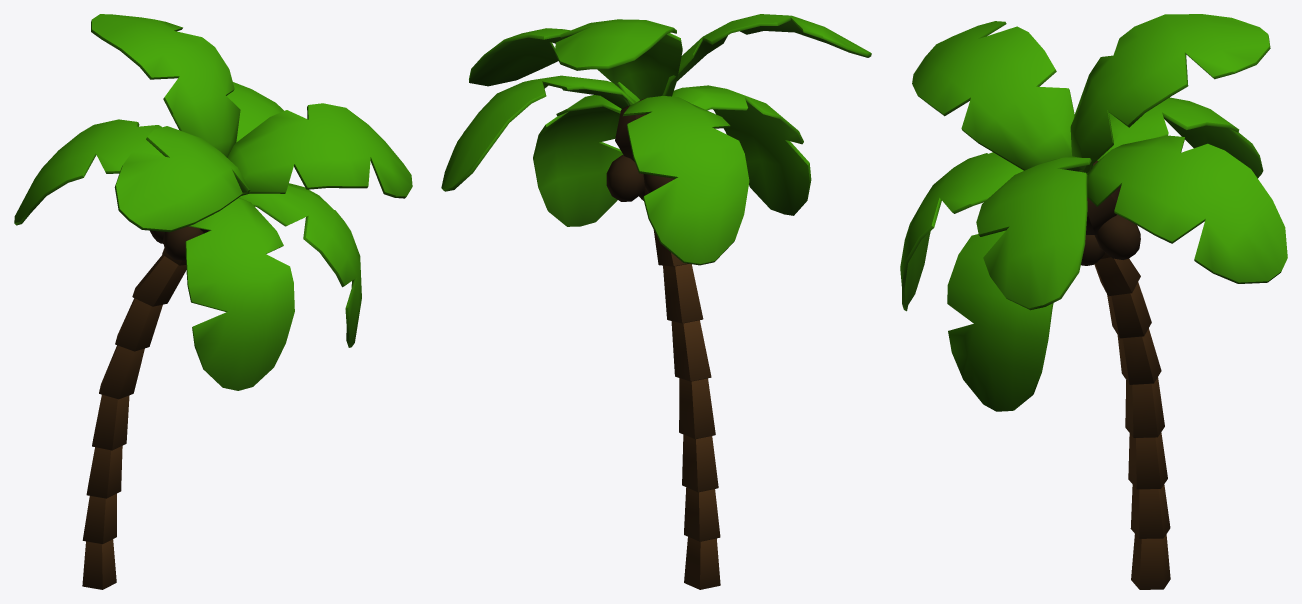
Rendered from Zone_4_Tree_A (21).fbx.
3 views of the same model, side by side, from view 1: azimuth 30°, elevation 25°; view 2: azimuth 150°, elevation 25°; view 3: azimuth 270°, elevation 25° (orthographic). The views are drawn at different scales.
Visible parts, largest first — view 1: Zone_4_Object_2_A_001; view 2: Zone_4_Object_2_A_001; view 3: Zone_4_Object_2_A_001.
Boxes of the visible parts, bbox=[...] form: Zone_4_Object_2_A_001: bbox=[14, 14, 412, 589]; Zone_4_Object_2_A_001: bbox=[441, 14, 871, 589]; Zone_4_Object_2_A_001: bbox=[900, 14, 1287, 589].
Bounding box in the file's own units: 425 × 640 × 383.
